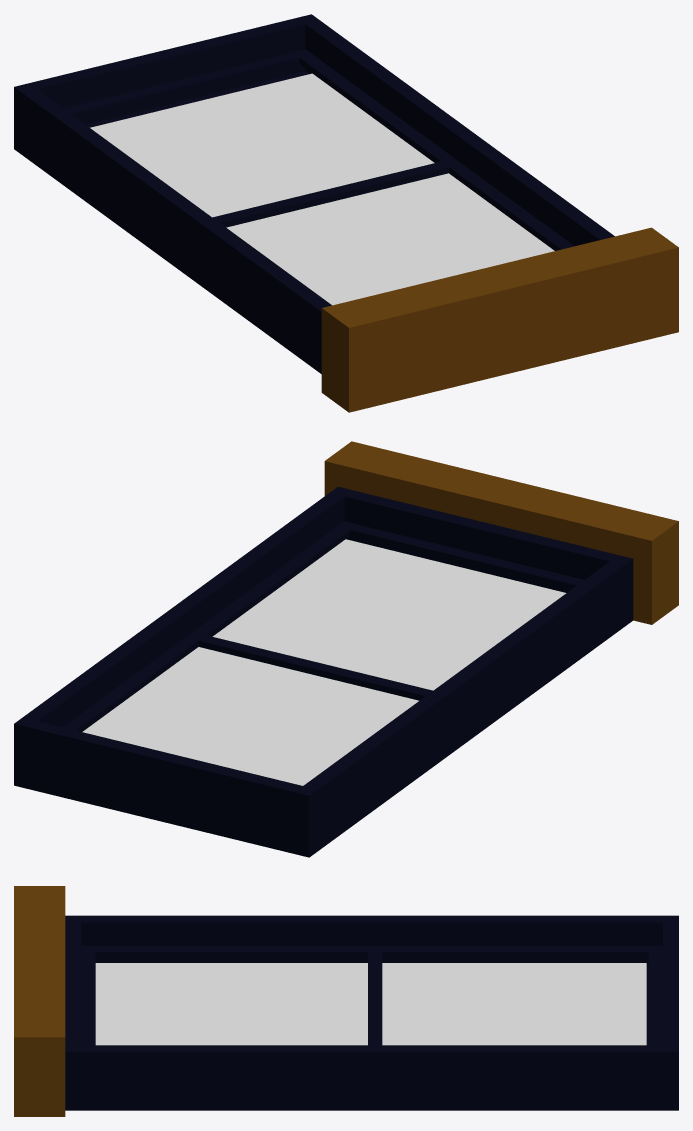
The model's file is window.fbx.
3 views of the same model, one above another, from view 1: azimuth 30°, elevation 25°; view 2: azimuth 150°, elevation 25°; view 3: azimuth 270°, elevation 25° (orthographic). The views are drawn at different scales.
Parts seen in each view (by area): view 1: Cube.001; view 2: Cube.001; view 3: Cube.001.
Boxes of the visible parts, bbox=[...] form: Cube.001: bbox=[14, 14, 678, 412]; Cube.001: bbox=[14, 441, 678, 857]; Cube.001: bbox=[14, 886, 678, 1116].
Bounding box in the file's own units: 171 × 41.9 × 317.
